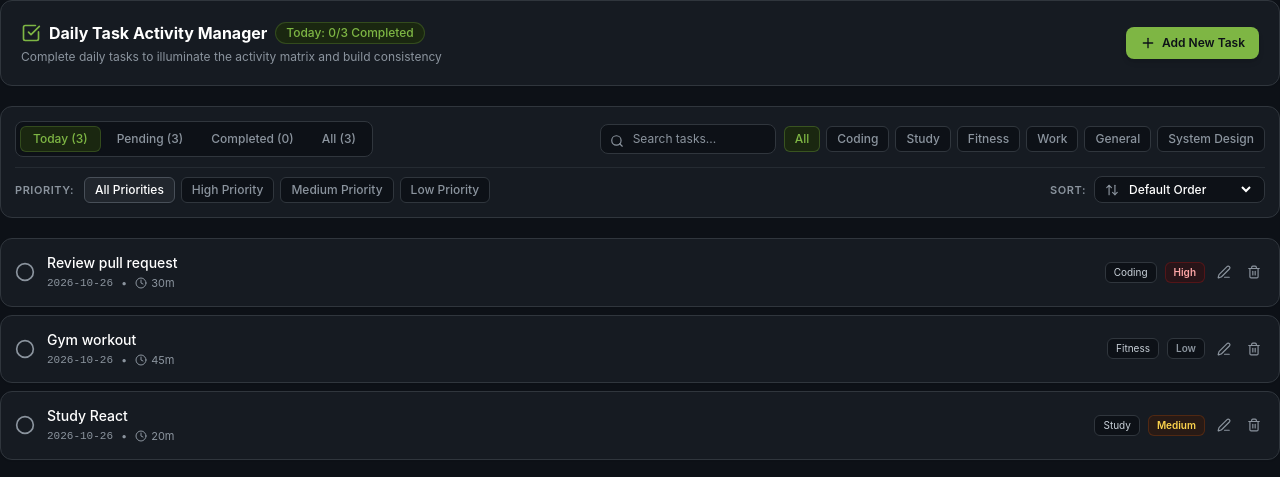
Test: TaskManager Component › filters tasks by priority
Expected: the text "Review pull request" is shown, [47,254,178,271]
Expected: the text "Gym workout" is shown, [47,330,136,348]
Click 'High Priority' filter
Click the button "High Priority": (228, 190) [181,176,274,202]
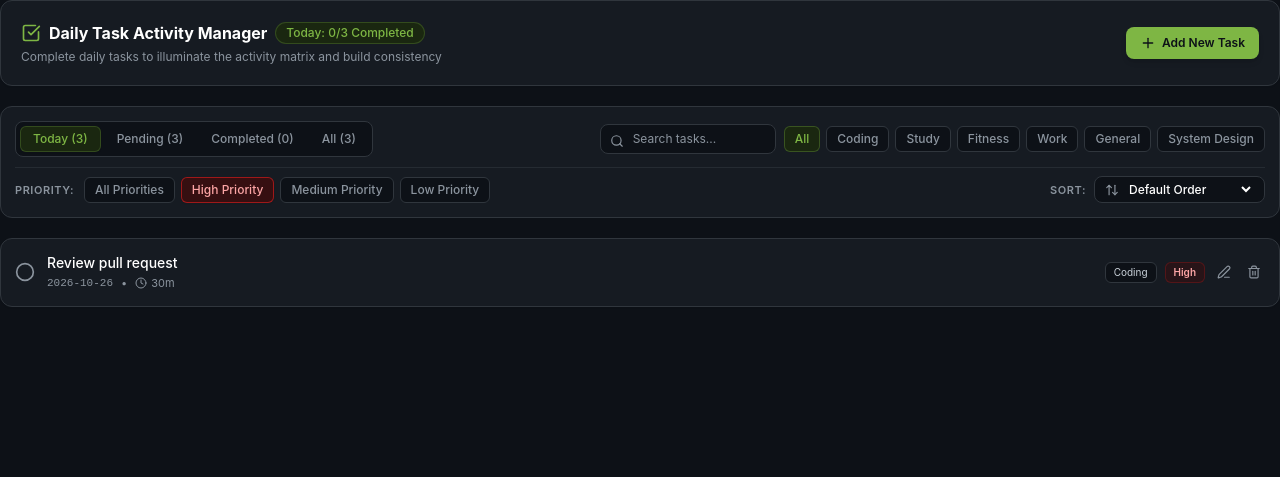
Expected: the text "Review pull request" is shown, [47,254,178,271]
Expected: the text "Gym workout" is gone
Expected: the text "Study React" is gone
Click 'Medium Priority' filter
Click the button "Medium Priority": (337, 190) [280,176,394,202]
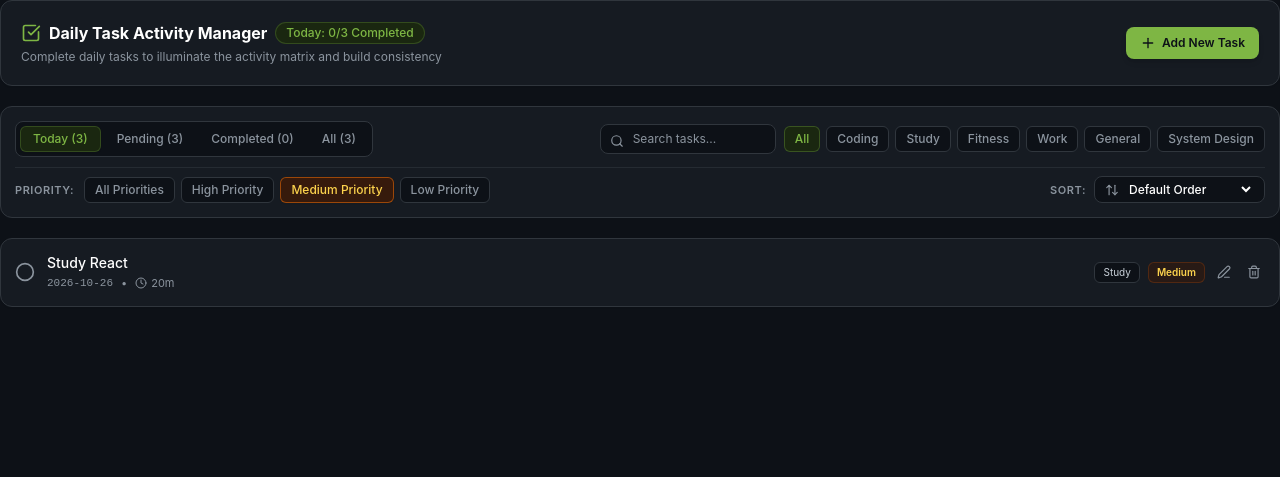
Expected: the text "Review pull request" is gone
Expected: the text "Study React" is shown, [47,254,128,271]
